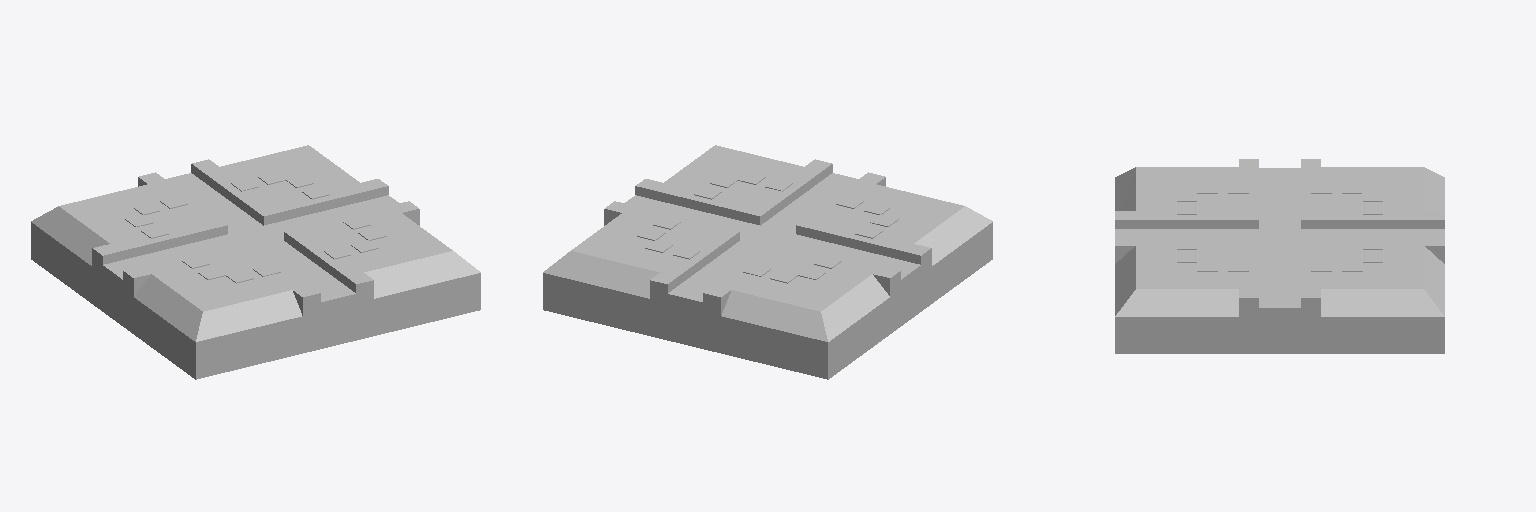
Rendered from modelPlateAction.obj.
The picture shows the model from 3 angles: view 1: azimuth 30°, elevation 25°; view 2: azimuth 150°, elevation 25°; view 3: azimuth 270°, elevation 25°; orthographic projection.
Visible parts, largest first — view 1: plate, Active_North, Active_South, Active_East, Active_West, Active_Centre; view 2: plate, Active_South, Active_North, Active_East, Active_West, Active_Centre; view 3: plate, Active_East, Active_West, Active_South, Active_North, Active_Centre.
Part boxes in pixels (bbox=[...]): plate: bbox=[31, 145, 480, 379]; Active_North: bbox=[165, 173, 262, 233]; Active_South: bbox=[258, 241, 355, 301]; Active_East: bbox=[264, 195, 398, 239]; Active_West: bbox=[104, 234, 238, 278]; Active_Centre: bbox=[228, 226, 283, 246]; plate: bbox=[543, 145, 992, 379]; Active_South: bbox=[761, 173, 858, 233]; Active_North: bbox=[668, 241, 765, 301]; Active_East: bbox=[625, 195, 759, 239]; Active_West: bbox=[785, 234, 919, 278]; Active_Centre: bbox=[740, 226, 795, 246]; plate: bbox=[1115, 159, 1444, 353]; Active_East: bbox=[1259, 246, 1300, 306]; Active_West: bbox=[1259, 168, 1300, 228]; Active_South: bbox=[1115, 229, 1258, 236]; Active_North: bbox=[1301, 229, 1444, 236]; Active_Centre: bbox=[1259, 229, 1300, 245].
Size of the model in its own units: 16 by 3.05 by 16.